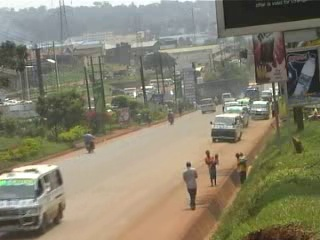Car: (219, 97, 240, 111)
Motorcycle: (82, 130, 96, 156), (163, 106, 177, 127)
